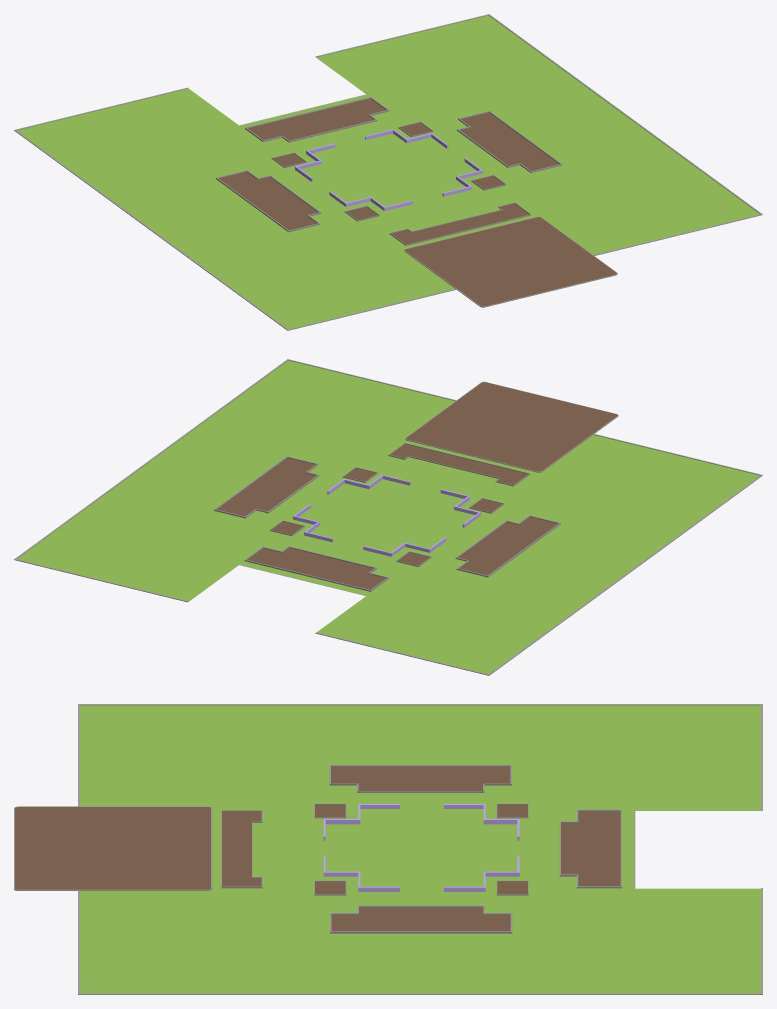
File: Terrain_D6.fbx
3 views of the same model, one above another, from view 1: azimuth 30°, elevation 25°; view 2: azimuth 150°, elevation 25°; view 3: azimuth 270°, elevation 25° (orthographic). The views are drawn at different scales.
Parts seen in each view (by area): view 1: Plane.973, Plane.980, Plane.013, Plane.012, Plane.006, Plane.014, Plane.1050; view 2: Plane.973, Plane.980, Plane.013, Plane.012, Plane.006, Plane.014, Plane.1050; view 3: Plane.973, Plane.980, Plane.012, Plane.006, Plane.013, Plane.014, Plane.1050, Plane.1055, Plane.1057, Plane.1051, Plane.1056.
Part boxes in pixels (x1=…): Plane.973: x1=14, y1=14, x2=762, y2=330; Plane.980: x1=404, y1=216, x2=617, y2=307; Plane.013: x1=245, y1=97, x2=389, y2=142; Plane.012: x1=457, y1=111, x2=562, y2=172; Plane.006: x1=216, y1=170, x2=321, y2=232; Plane.014: x1=389, y1=202, x2=531, y2=245; Plane.1050: x1=295, y1=129, x2=482, y2=211; Plane.973: x1=14, y1=359, x2=762, y2=675; Plane.980: x1=405, y1=381, x2=618, y2=472; Plane.013: x1=244, y1=546, x2=388, y2=591; Plane.012: x1=214, y1=456, x2=319, y2=518; Plane.006: x1=455, y1=515, x2=560, y2=577; Plane.014: x1=388, y1=443, x2=530, y2=486; Plane.1050: x1=293, y1=475, x2=480, y2=556; Plane.973: x1=78, y1=704, x2=762, y2=994; Plane.980: x1=14, y1=806, x2=212, y2=890; Plane.012: x1=330, y1=905, x2=512, y2=933; Plane.006: x1=329, y1=765, x2=511, y2=792; Plane.013: x1=559, y1=809, x2=621, y2=888; Plane.014: x1=221, y1=810, x2=262, y2=888; Plane.1050: x1=323, y1=804, x2=519, y2=891; Plane.1055: x1=314, y1=880, x2=346, y2=895; Plane.1057: x1=496, y1=880, x2=528, y2=895; Plane.1051: x1=314, y1=803, x2=346, y2=818; Plane.1056: x1=496, y1=803, x2=528, y2=818.
Size of what is drawn, in the model's own units: 47662 by 353 by 52002.
Materials: 5 (2 with a texture image).
